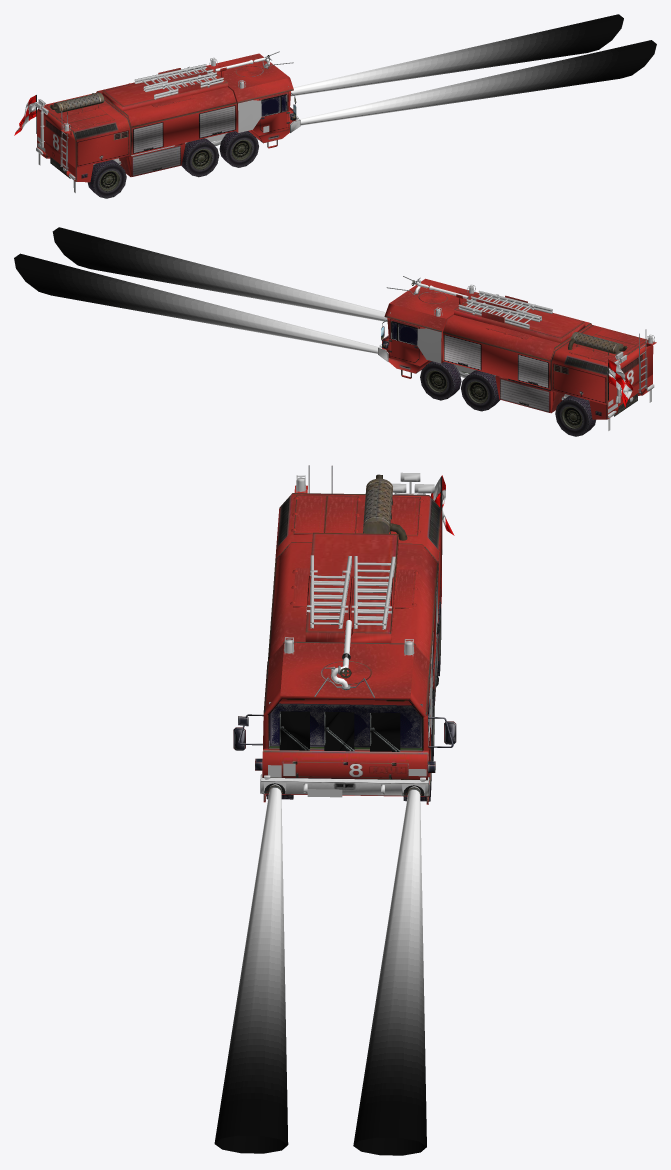
3 renders of one model, top to bottom at view 1: azimuth 30°, elevation 25°; view 2: azimuth 150°, elevation 25°; view 3: azimuth 270°, elevation 25°, orthographic. The views are drawn at different scales.
Visible parts, largest first — view 1: licht, tank, radf, tankadd2, kaba, kabd, 4leiter, details, tankadd1, radp, auspuff, glasst (+2 smaller); view 2: licht, tank, radf, tankadd2, kaba, kabd, 4leiter, tankadd1, details, radp, auspuff, flagge (+2 smaller); view 3: licht, tank, kaba, tankadd2, kabd, 4leiter, alpha2, tankadd1, glassf, bumber, auspuff, details.
Boxes of the visible parts, left/top/right/bottom form: licht: left=290, top=14, right=656, bottom=125; tank: left=36, top=82, right=236, bottom=182; radf: left=93, top=132, right=258, bottom=198; tankadd2: left=102, top=65, right=227, bottom=111; kaba: left=228, top=77, right=296, bottom=148; kabd: left=206, top=53, right=289, bottom=90; 4leiter: left=134, top=64, right=223, bottom=99; details: left=36, top=57, right=269, bottom=192; tankadd1: left=45, top=104, right=114, bottom=171; radp: left=87, top=131, right=251, bottom=195; auspuff: left=49, top=92, right=104, bottom=114; glasst: left=261, top=95, right=286, bottom=116; licht: left=14, top=227, right=387, bottom=353; tank: left=442, top=313, right=653, bottom=419; radf: left=420, top=363, right=589, bottom=436; tankadd2: left=454, top=292, right=585, bottom=343; kaba: left=381, top=303, right=453, bottom=378; kabd: left=389, top=278, right=479, bottom=318; 4leiter: left=458, top=291, right=552, bottom=329; tankadd1: left=569, top=328, right=656, bottom=393; details: left=417, top=284, right=654, bottom=430; radp: left=427, top=361, right=595, bottom=433; auspuff: left=568, top=332, right=627, bottom=355; flagge: left=608, top=360, right=632, bottom=407; licht: left=214, top=788, right=426, bottom=1155; tank: left=268, top=476, right=442, bottom=705; kaba: left=233, top=643, right=456, bottom=804; tankadd2: left=290, top=532, right=418, bottom=648; kabd: left=280, top=642, right=414, bottom=697; 4leiter: left=306, top=555, right=395, bottom=629; alpha2: left=279, top=711, right=400, bottom=751; tankadd1: left=291, top=465, right=423, bottom=536; glassf: left=269, top=702, right=422, bottom=748; bumber: left=260, top=774, right=429, bottom=796; auspuff: left=363, top=474, right=407, bottom=540; details: left=266, top=475, right=432, bottom=797.
Bounding box in the file's own units: 27.12 × 3.83 × 4.8.
